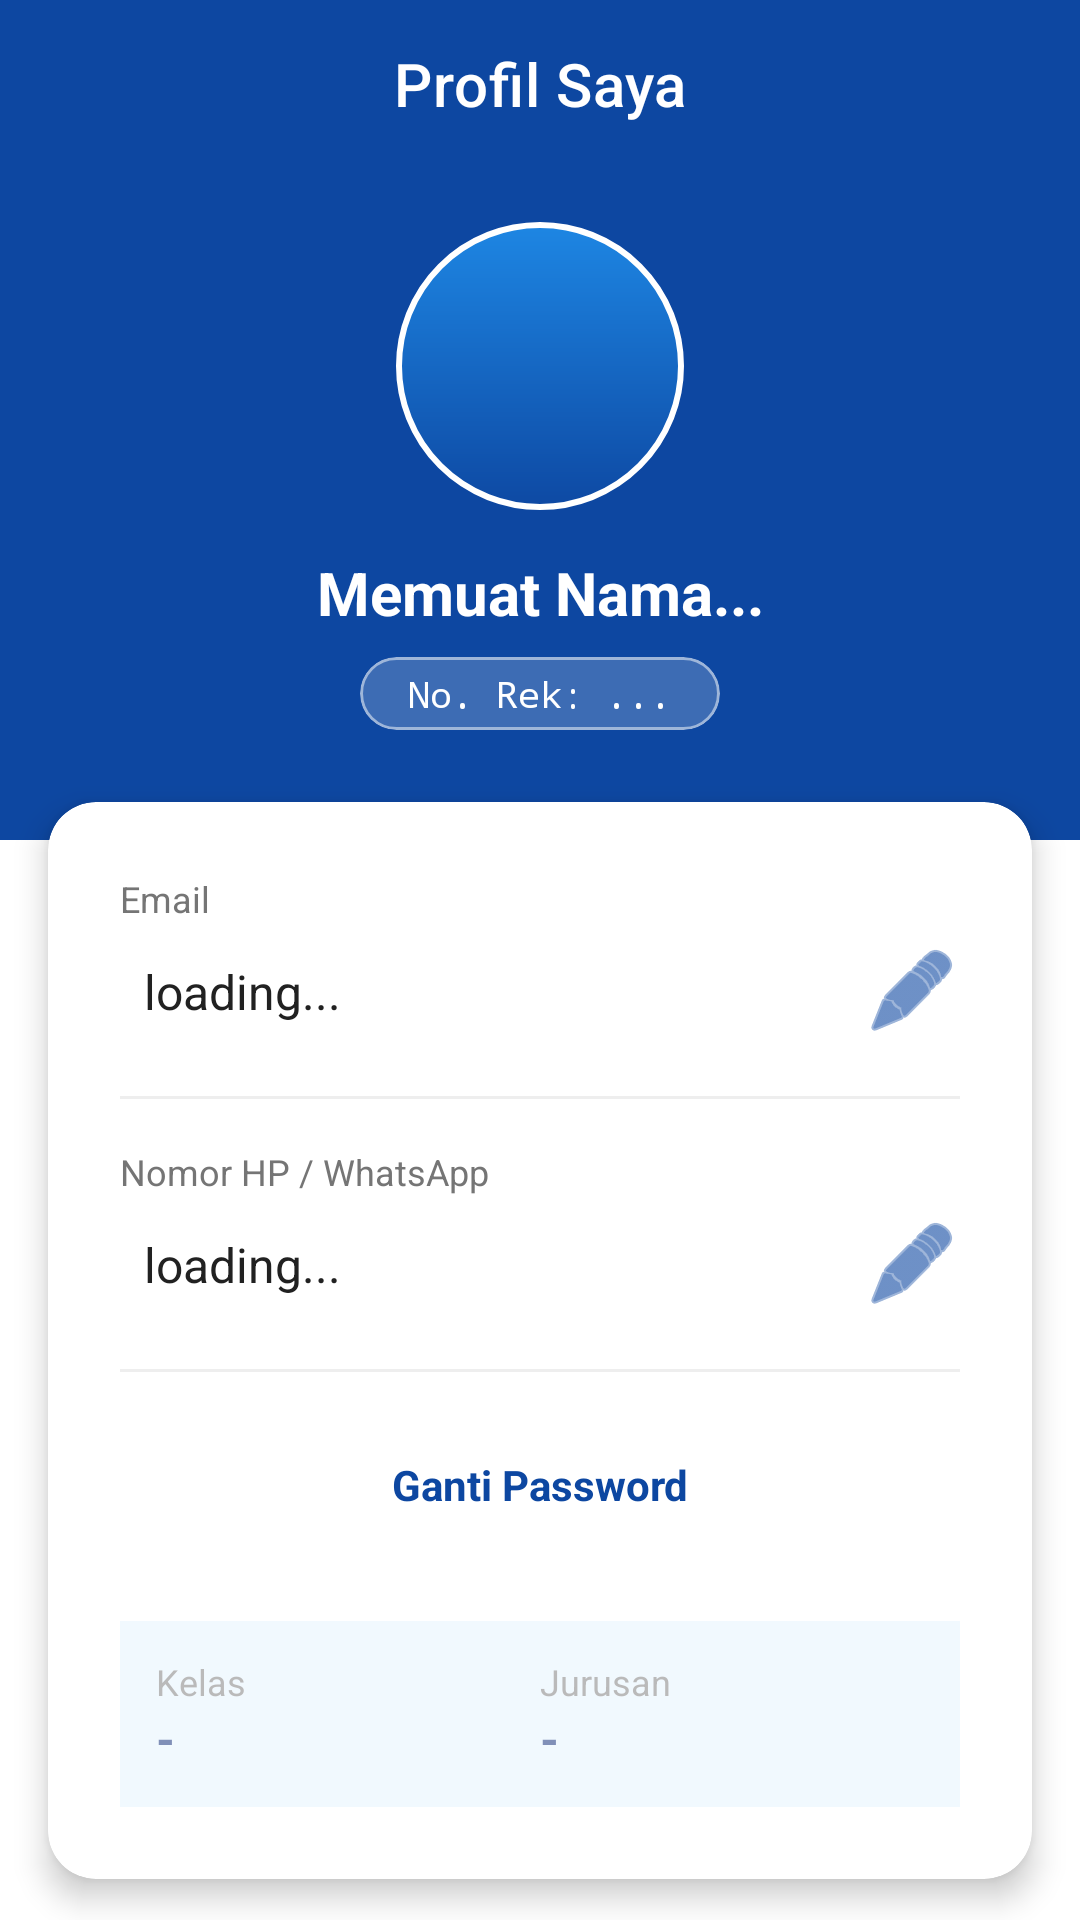

Icons on this 1080w x 1920h Android screen, each with its box as (x1, y1, x2, y2):
Edit Email: (871, 950, 952, 1031)
Edit HP: (871, 1223, 952, 1304)
